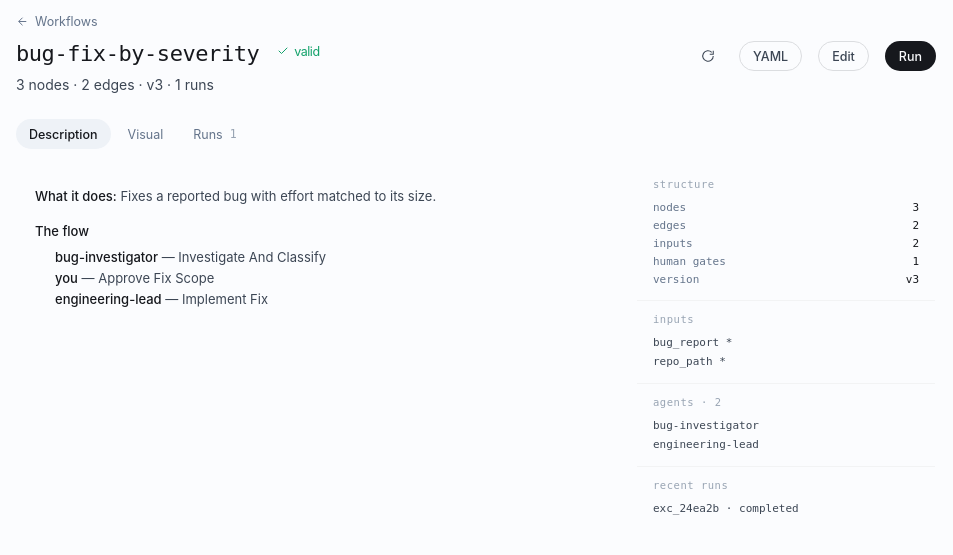
Test: WorkflowDetailPage V8 › defaults to the prototype description view and exposes visual and run tabs
The image size is (953, 555).
Expected: the heading "bug-fix-by-severity valid" is shown, [16, 41, 320, 66]
Expected: the text "What it does:" is shown, [35, 188, 117, 204]
Click the button "Visual": point(145, 134) [115, 120, 176, 150]
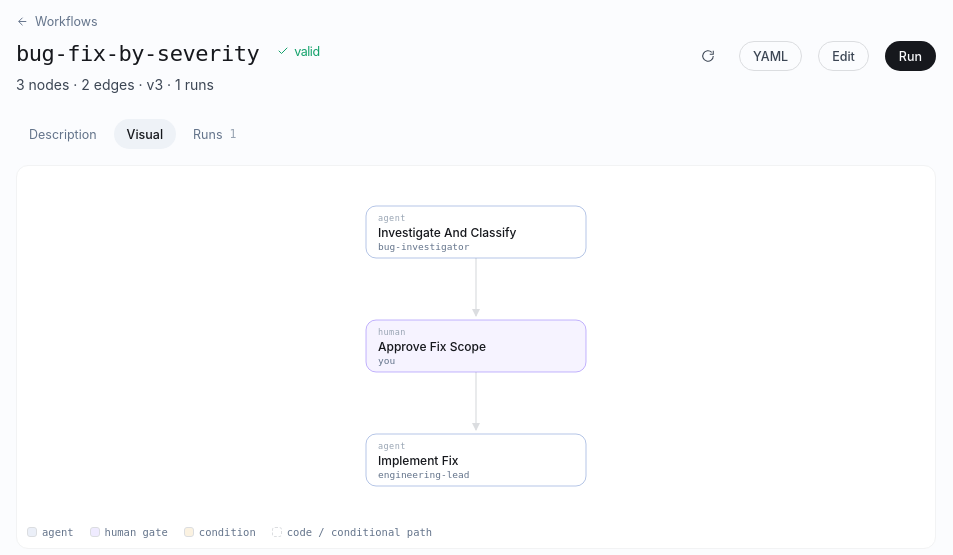
Expected: the picture named "bug-fix-by-severity flow" is shown, [156, 176, 796, 516]
Click the button "Runs 1": point(215, 134) [180, 120, 250, 150]
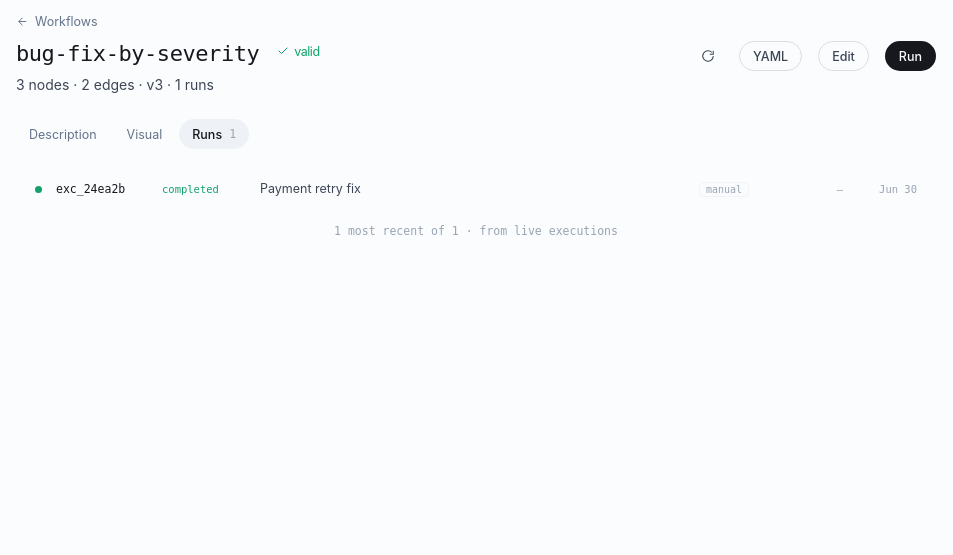
Expected: the text "Payment retry fix" is shown, [260, 182, 361, 196]
